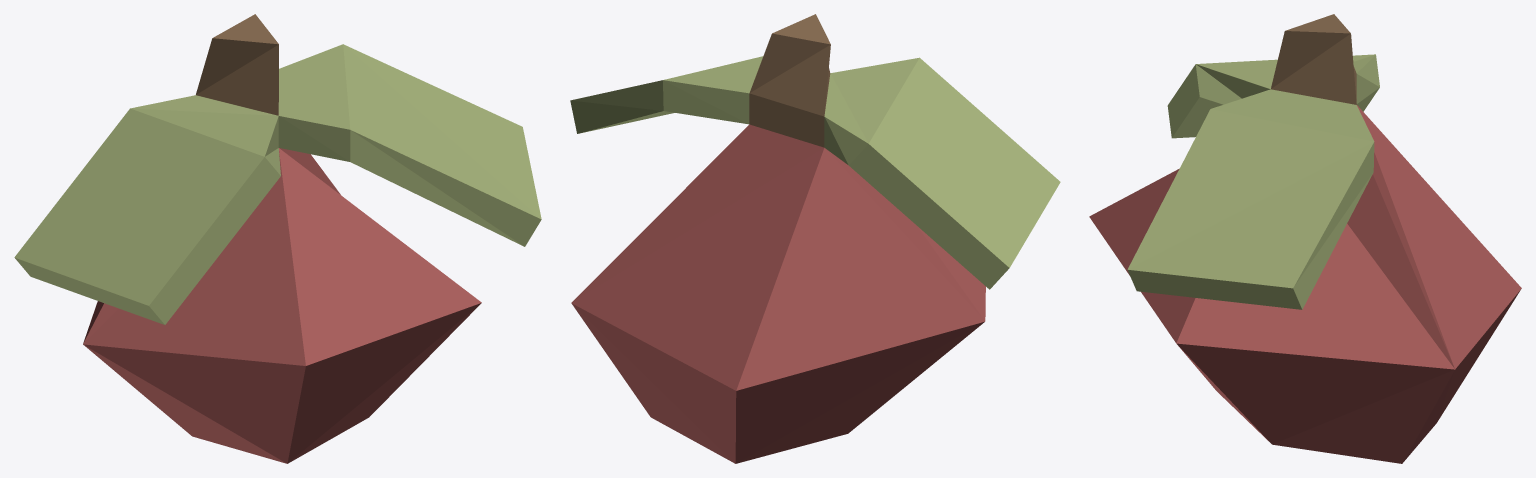
The model's file is berry1.fbx.
The picture shows the model from 3 angles, left to right: view 1: azimuth 30°, elevation 25°; view 2: azimuth 150°, elevation 25°; view 3: azimuth 270°, elevation 25°; orthographic projection. The views are drawn at different scales.
Parts seen in each view (by area): view 1: berry1; view 2: berry1; view 3: berry1.
Boxes of the visible parts, x1,y1,x2,y2 form: berry1: (14, 14, 541, 463); berry1: (570, 14, 1060, 463); berry1: (1089, 14, 1521, 463).
Bounding box in the file's own units: 2.42 × 1.96 × 1.96.
